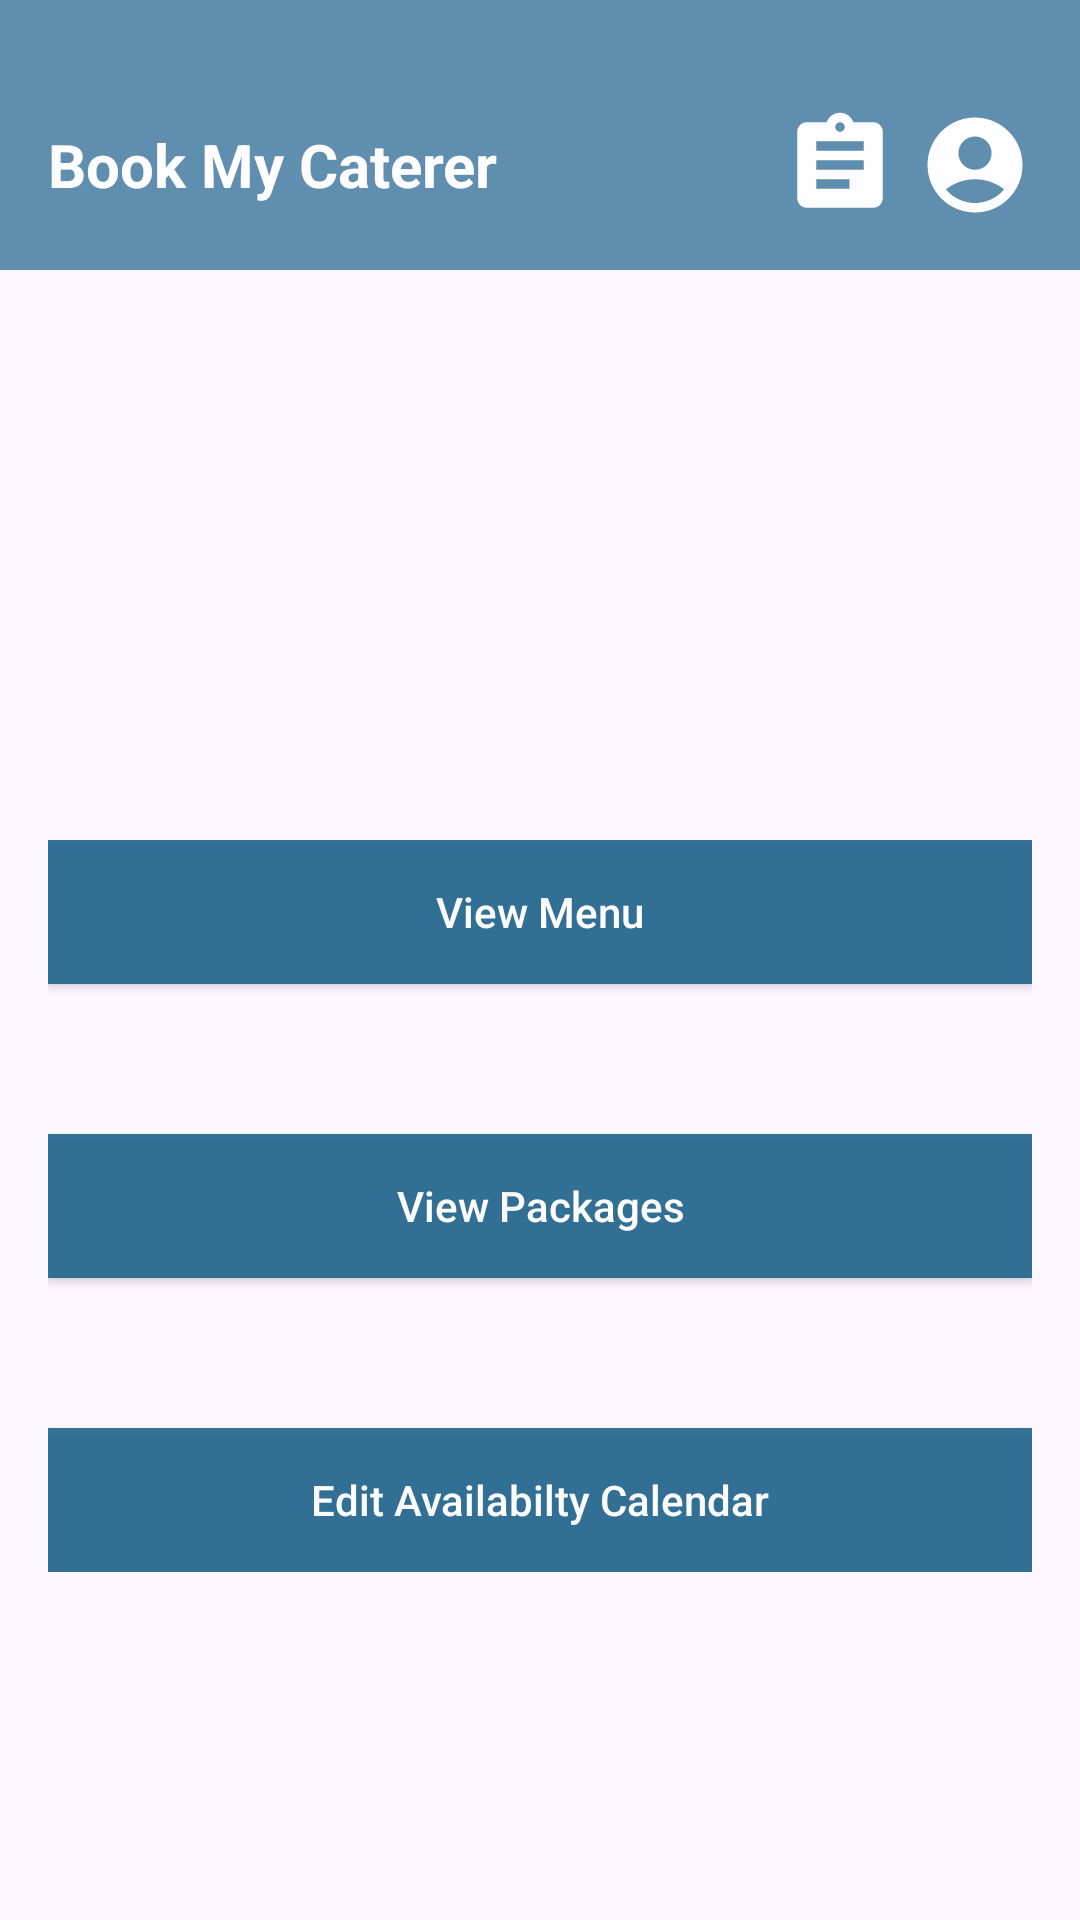

Icons on this 1080x1920 Android screen, each with its box as [x1, y1, x2, y2]:
account circle: [927, 117, 1023, 213]
order: [797, 112, 883, 208]
